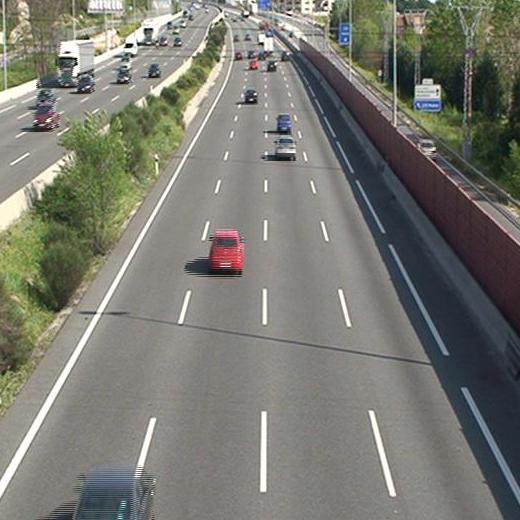car: (209, 231, 244, 272), (276, 136, 295, 158), (276, 113, 291, 132), (244, 90, 258, 103), (267, 60, 277, 71), (249, 61, 258, 70)
